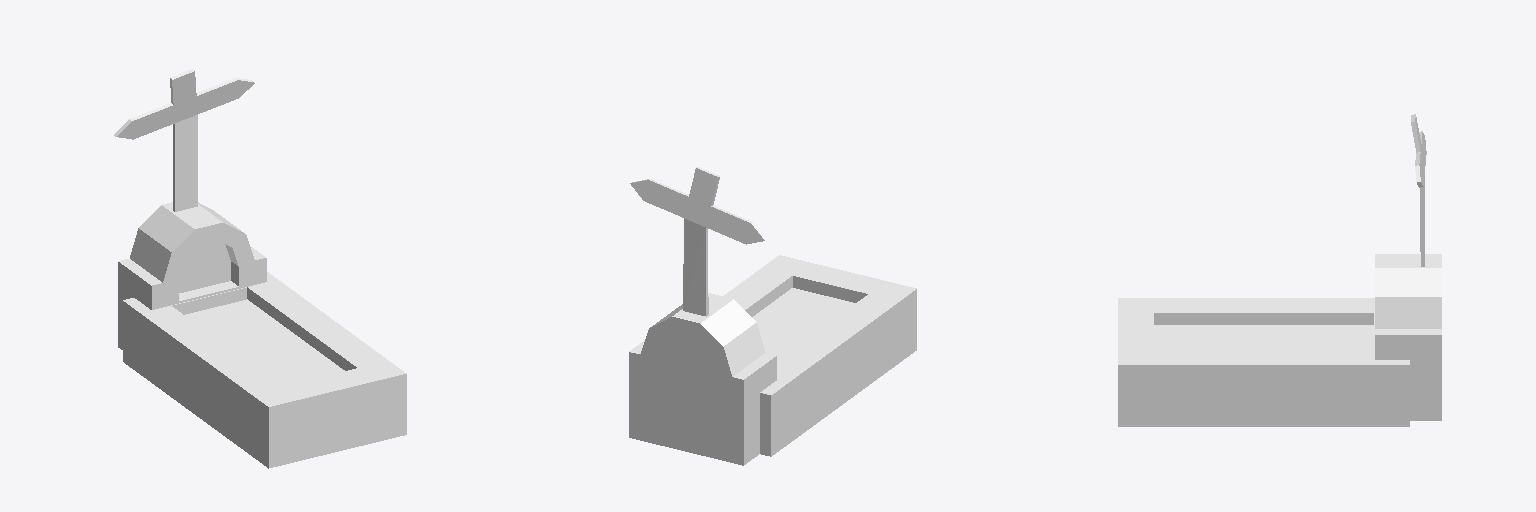
File: BG_Grave.obj
The picture shows the model from 3 angles: view 1: azimuth 30°, elevation 25°; view 2: azimuth 150°, elevation 25°; view 3: azimuth 270°, elevation 25°; orthographic projection.
Parts seen in each view (by area): view 1: Grave_02; view 2: Grave_02; view 3: Grave_02.
Boxes of the visible parts, x1=… form: Grave_02: x1=114, y1=69, x2=406, y2=468; Grave_02: x1=629, y1=167, x2=916, y2=465; Grave_02: x1=1118, y1=114, x2=1441, y2=426.
Bounding box in the file's own units: 12.11 × 22.71 × 24.41.